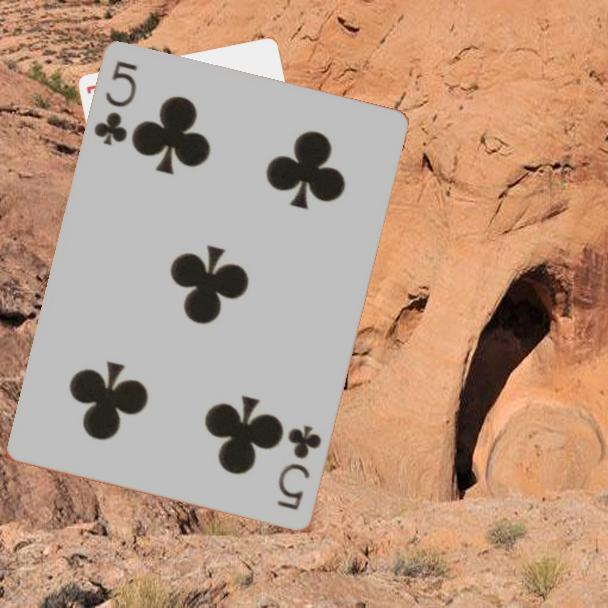c05: (274, 422, 325, 514), (90, 57, 141, 149)
